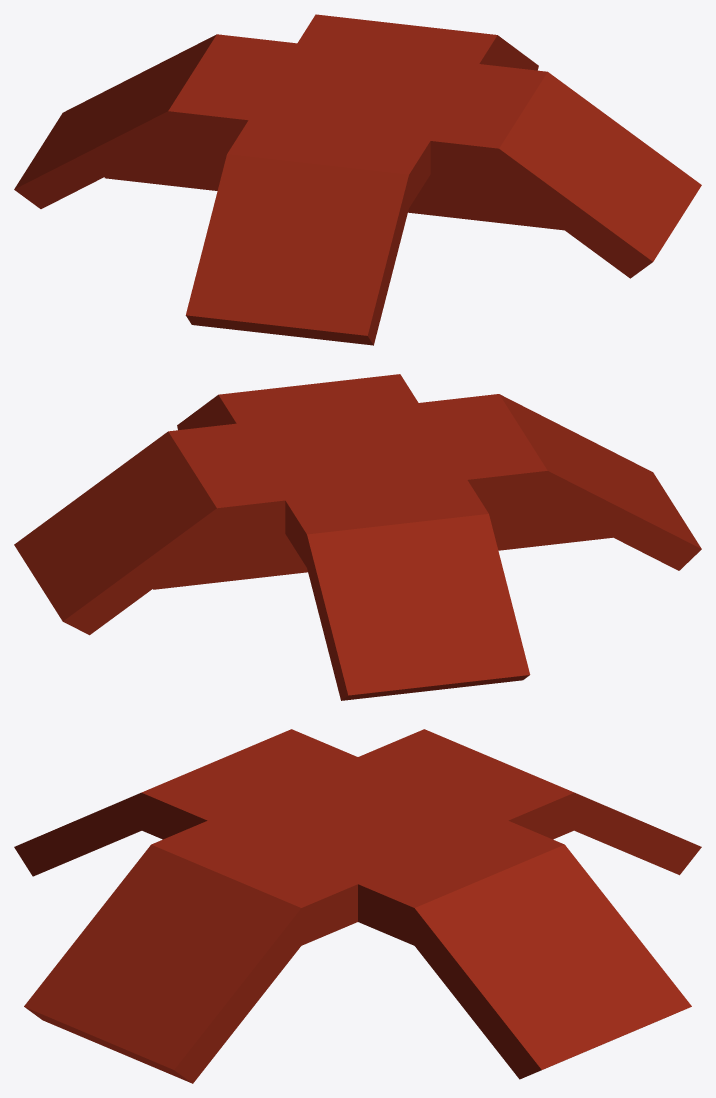
Rendered from red_base.obj.
3 renders of one model, top to bottom at view 1: azimuth 30°, elevation 25°; view 2: azimuth 150°, elevation 25°; view 3: azimuth 270°, elevation 25°, orthographic. The views are drawn at different scales.
Parts seen in each view (by area): view 1: detail_fenderSquare_2, detail_fenderSquare_4; view 2: detail_fenderSquare_4, detail_fenderSquare_2; view 3: detail_fenderSquare_2, detail_fenderSquare_4.
Boxes of the visible parts, x1,y1,x2,y2 form: detail_fenderSquare_2: (14, 34, 701, 278); detail_fenderSquare_4: (185, 14, 538, 345); detail_fenderSquare_4: (14, 394, 701, 635); detail_fenderSquare_2: (177, 374, 530, 700); detail_fenderSquare_2: (24, 729, 701, 1083); detail_fenderSquare_4: (14, 729, 691, 1079).
Size of the model in its own units: 0.9998 by 0.2114 by 1.01.
